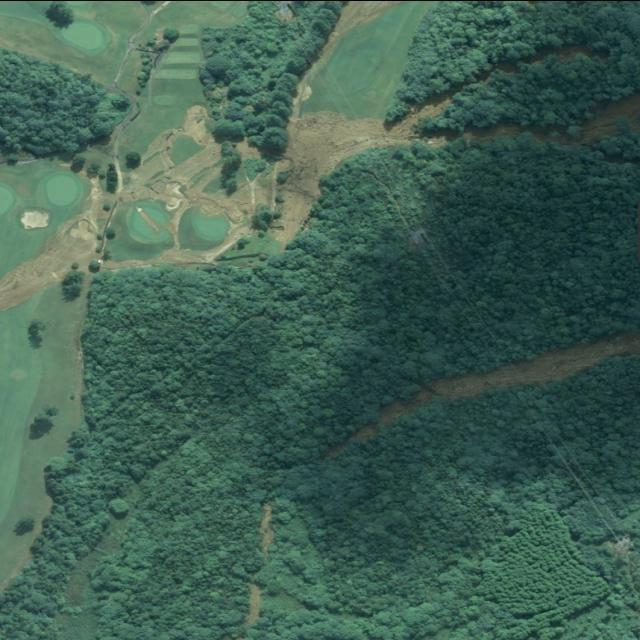landslide: (321, 332, 640, 457), (274, 109, 412, 242), (149, 219, 252, 263), (0, 244, 58, 301), (260, 503, 274, 562), (245, 583, 261, 629)
